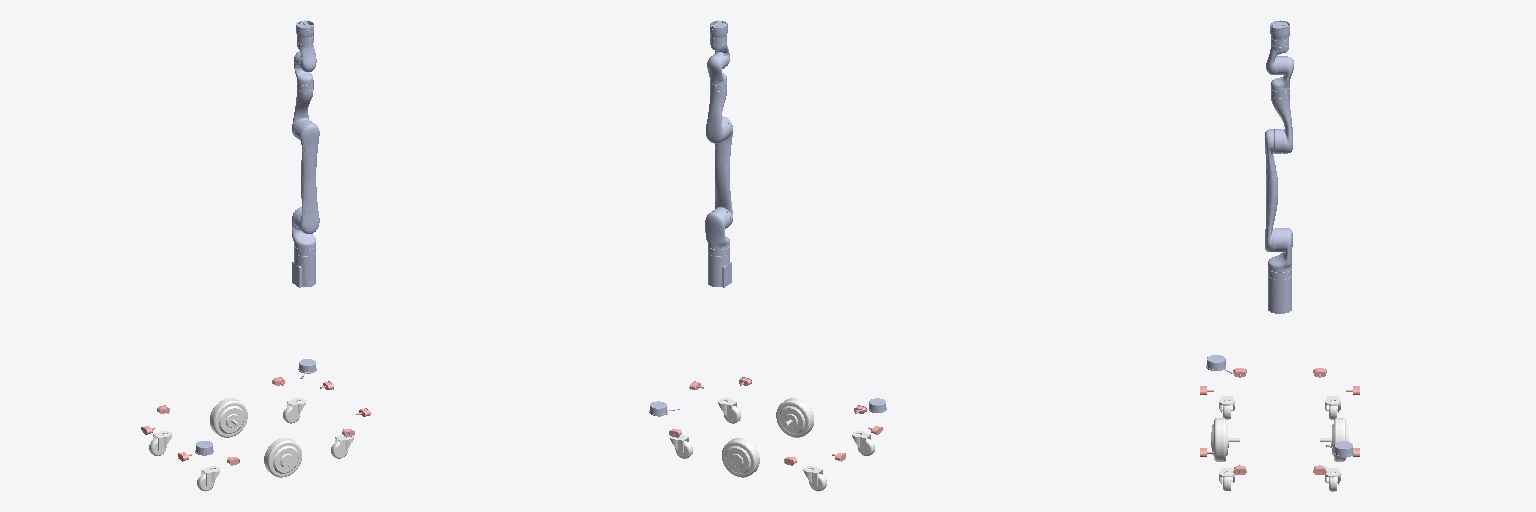
--- Facts derived from the render (not from the file) ---
The picture shows the robot from 3 angles, left to right: view 1: azimuth 30°, elevation 25°; view 2: azimuth 150°, elevation 25°; view 3: azimuth 270°, elevation 25°; orthographic projection.
Robot: ustbot — 29 links, 28 joints (16 revolute, 12 fixed); root link base_footprint; default pose: all joints at 0.
Visible links, largest first — view 1: bicep_link, left_wheelhub_link, right_wheelhub_link, arm_base_link, forearm_link, shoulder_link; view 2: bicep_link, right_wheelhub_link, left_wheelhub_link, forearm_link, arm_base_link, shoulder_link; view 3: bicep_link, arm_base_link, shoulder_link, forearm_link, right_wheelhub_link, spherical_wrist_1_link.
Link boxes in pixels (x1,y1,x2,y2): bicep_link: (295,119,319,233); left_wheelhub_link: (210,398,247,437); right_wheelhub_link: (264,438,301,477); arm_base_link: (292,246,315,287); forearm_link: (292,82,313,136); shoulder_link: (292,207,315,249); bicep_link: (715,116,732,224); right_wheelhub_link: (776,398,813,437); left_wheelhub_link: (722,438,759,477); forearm_link: (706,83,726,143); arm_base_link: (708,246,731,287); shoulder_link: (705,208,730,249); bicep_link: (1265,129,1281,251); arm_base_link: (1268,269,1291,313); shoulder_link: (1268,228,1292,272); forearm_link: (1271,88,1292,153); right_wheelhub_link: (1211,418,1239,461); spherical_wrist_1_link: (1271,56,1293,91).
Size in the robot's own frame: 0.894 by 0.604 by 1.92 metres.
27 mesh visuals loaded from 28 distinct referenced files (27 binary STL); not drawn: 1 (reference not matched to a file when rendering).

The robot description file, URDF, robot "ustbot":
<?xml version="1.0" encoding="utf-8"?>
<!-- This URDF was automatically created by SolidWorks to URDF Exporter! Originally created by Stephen Brawner ([email redacted]) 
     Commit Version: 1.6.0-1-g15f4949  Build Version: 1.6.7594.29634
     For more information, please see http://wiki.ros.org/sw_urdf_exporter -->
<robot 
  name="ustbot">
  <link 
    name="base_footprint"/>
    <joint 
      name="base_joint" type="fixed">
    <parent 
      link="base_footprint"/>
    <child 
      link="base_link"/>
    <origin 
      xyz="0.0 0.0 0.010" 
      rpy="0 0 0"/>
  </joint>

  <link 
    name="base_link">
    <inertial>
      <origin
        xyz="0.013217 0.0075253 0.31131"
        rpy="0 0 0" />
      <mass
        value="76.998" />
      <inertia
        ixx="1.9819"
        ixy="0.0010984"
        ixz="0.0010634"
        iyy="1.9365"
        iyz="-0.00042068"
        izz="2.3951" />
    </inertial>
    <visual>
      <origin
        xyz="0 0 0"
        rpy="0 0 0" />
      <geometry>
        <mesh
          filename="package://ustbot_description/meshes/base_link.STL" />
      </geometry>
      <material
        name="">
        <color
          rgba="0.89804 0.91765 0.92941 1" />
      </material>
    </visual>
    <collision>
      <origin
        xyz="0 0 0"
        rpy="0 0 0" />
      <geometry>
        <mesh
          filename="package://ustbot_description/meshes/base_link.STL" />
      </geometry>
    </collision>
  </link>
  <link
    name="left_wheelhub_link">
    <inertial>
      <origin
        xyz="2.1270092198097E-18 3.74115927137672E-06 0.0346504264024086"
        rpy="0 0 0" />
      <mass
        value="3.07120221177258" />
      <inertia
        ixx="0.0054831110453997"
        ixy="2.15571771255504E-22"
        ixz="4.84300075074391E-19"
        iyy="0.00548317428259655"
        iyz="6.31372521057598E-07"
        izz="0.00925980692151947" />
    </inertial>
    <visual>
      <origin
        xyz="0 0 0"
        rpy="0 0 0" />
      <geometry>
        <mesh
          filename="package://ustbot_description/meshes/left_wheelhub_link.STL" />
      </geometry>
      <material
        name="">
        <color
          rgba="1 1 1 1" />
      </material>
    </visual>
    <collision>
      <origin
        xyz="0 0 0"
        rpy="0 0 0" />
      <geometry>
        <mesh
          filename="package://ustbot_description/meshes/left_wheelhub_link.STL" />
      </geometry>
    </collision>
  </link>
  <joint
    name="left_wheelhub_joint"
    type="revolute">
    <origin
      xyz="0 0.19 0"
      rpy="-1.5708 0 0" />
    <parent
      link="base_link" />
    <child
      link="left_wheelhub_link" />
    <axis
      xyz="0 0 -1" />
    <limit
      lower="-10000"
      upper="10000"
      effort="1000"
      velocity="1000" />
  </joint>
  <link
    name="right_wheelhub_link">
    <inertial>
      <origin
        xyz="-2.53974273110137E-18 3.74115927137672E-06 -0.0346504264024086"
        rpy="0 0 0" />
      <mass
        value="3.07120221177258" />
      <inertia
        ixx="0.00548311104539971"
        ixy="-9.43356445754072E-23"
        ixz="4.82283734613608E-19"
        iyy="0.00548317428259655"
        iyz="-6.313725210576E-07"
        izz="0.00925980692151947" />
    </inertial>
    <visual>
      <origin
        xyz="0 0 0"
        rpy="0 0 0" />
      <geometry>
        <mesh
          filename="package://ustbot_description/meshes/right_wheelhub_link.STL" />
      </geometry>
      <material
        name="">
        <color
          rgba="1 1 1 1" />
      </material>
    </visual>
    <collision>
      <origin
        xyz="0 0 0"
        rpy="0 0 0" />
      <geometry>
        <mesh
          filename="package://ustbot_description/meshes/right_wheelhub_link.STL" />
      </geometry>
    </collision>
  </link>
  <joint
    name="right_wheelhub_joint"
    type="revolute">
    <origin
      xyz="0 -0.19 0"
      rpy="-1.5708 0 0" />
    <parent
      link="base_link" />
    <child
      link="right_wheelhub_link" />
    <axis
      xyz="0 0 1" />
    <limit
      lower="-10000"
      upper="10000"
      effort="1000"
      velocity="1000" />
  </joint>
  <link
    name="left_front_universal_link">
    <inertial>
      <origin
        xyz="-0.0173351211725158 -3.96780477057712E-07 0.0193726789338571"
        rpy="0 0 0" />
      <mass
        value="0.0618964189844521" />
      <inertia
        ixx="4.87325879655447E-05"
        ixy="2.15541954218948E-09"
        ixz="1.15020769399947E-05"
        iyy="4.64322169880782E-05"
        iyz="1.31605530728494E-10"
        izz="4.86391107359433E-05" />
    </inertial>
    <visual>
      <origin
        xyz="0 0 0"
        rpy="0 0 0" />
      <geometry>
        <mesh
          filename="package://ustbot_description/meshes/left_front_universal_link.STL" />
      </geometry>
      <material
        name="">
        <color
          rgba="1 1 1 1" />
      </material>
    </visual>
    <collision>
      <origin
        xyz="0 0 0"
        rpy="0 0 0" />
      <geometry>
        <mesh
          filename="package://ustbot_description/meshes/left_front_universal_link.STL" />
      </geometry>
    </collision>
  </link>
  <joint
    name="left_front_universal_joint"
    type="revolute">
    <origin
      xyz="0.32 0.199 0.012"
      rpy="3.1416 0 0" />
    <parent
      link="base_link" />
    <child
      link="left_front_universal_link" />
    <axis
      xyz="0 0 1" />
    <limit
      lower="-10000"
      upper="10000"
      effort="1000"
      velocity="1000" />
  </joint>
  <link
    name="left_front_universalWheel_link">
    <inertial>
      <origin
        xyz="0 5.29437604868122E-15 8.04911692853238E-16"
        rpy="0 0 0" />
      <mass
        value="0.351682213816847" />
      <inertia
        ixx="0.0001453585758008"
        ixy="1.86526139128109E-21"
        ixz="-7.22919172369649E-20"
        iyy="0.0001453585758008"
        iyz="2.11349994585755E-21"
        izz="0.000236148057586011" />
    </inertial>
    <visual>
      <origin
        xyz="0 0 0"
        rpy="0 0 0" />
      <geometry>
        <mesh
          filename="package://ustbot_description/meshes/left_front_universalWheel_link.STL" />
      </geometry>
      <material
        name="">
        <color
          rgba="1 1 1 1" />
      </material>
    </visual>
    <collision>
      <origin
        xyz="0 0 0"
        rpy="0 0 0" />
      <geometry>
        <mesh
          filename="package://ustbot_description/meshes/left_front_universalWheel_link.STL" />
      </geometry>
    </collision>
  </link>
  <joint
    name="left_front_universalWheel_joint"
    type="revolute">
    <origin
      xyz="-0.035 0 0.052"
      rpy="1.5708 0 0" />
    <parent
      link="left_front_universal_link" />
    <child
      link="left_front_universalWheel_link" />
    <axis
      xyz="0 0 -1" />
    <limit
      lower="-10000"
      upper="10000"
      effort="1000"
      velocity="1000" />
  </joint>
  <link
    name="left_back_universal_link">
    <inertial>
      <origin
        xyz="-0.0173351211725153 -3.96780477029957E-07 0.0193726789338557"
        rpy="0 0 0" />
      <mass
        value="0.0618964189844518" />
      <inertia
        ixx="4.87325879655444E-05"
        ixy="2.1554195449679E-09"
        ixz="1.15020769399942E-05"
        iyy="4.64322169880781E-05"
        iyz="1.31605531078787E-10"
        izz="4.86391107359431E-05" />
    </inertial>
    <visual>
      <origin
        xyz="0 0 0"
        rpy="0 0 0" />
      <geometry>
        <mesh
          filename="package://ustbot_description/meshes/left_back_universal_link.STL" />
      </geometry>
      <material
        name="">
        <color
          rgba="1 1 1 1" />
      </material>
    </visual>
    <collision>
      <origin
        xyz="0 0 0"
        rpy="0 0 0" />
      <geometry>
        <mesh
          filename="package://ustbot_description/meshes/left_back_universal_link.STL" />
      </geometry>
    </collision>
  </link>
  <joint
    name="left_back_universal_joint"
    type="revolute">
    <origin
      xyz="-0.319 0.199 0.012"
      rpy="3.1416 0 0" />
    <parent
      link="base_link" />
    <child
      link="left_back_universal_link" />
    <axis
      xyz="0 0 1" />
    <limit
      lower="-10000"
      upper="10000"
      effort="1000"
      velocity="1000" />
  </joint>
  <link
    name="left_back_universalWheel_link">
    <inertial>
      <origin
        xyz="5.55111512312578E-17 0 -2.77555756156289E-17"
        rpy="0 0 0" />
      <mass
        value="0.351682213816847" />
      <inertia
        ixx="0.0001453585758008"
        ixy="3.74081963022458E-22"
        ixz="7.82430587857836E-20"
        iyy="0.0001453585758008"
        iyz="-4.74764533675695E-21"
        izz="0.000236148057586012" />
    </inertial>
    <visual>
      <origin
        xyz="0 0 0"
        rpy="0 0 0" />
      <geometry>
        <mesh
          filename="package://ustbot_description/meshes/left_back_universalWheel_link.STL" />
      </geometry>
      <material
        name="">
        <color
          rgba="1 1 1 1" />
      </material>
    </visual>
    <collision>
      <origin
        xyz="0 0 0"
        rpy="0 0 0" />
      <geometry>
        <mesh
          filename="package://ustbot_description/meshes/left_back_universalWheel_link.STL" />
      </geometry>
    </collision>
  </link>
  <joint
    name="left_back_universalWheel_joint"
    type="revolute">
    <origin
      xyz="-0.035 0 0.052"
      rpy="1.5708 0 0" />
    <parent
      link="left_back_universal_link" />
    <child
      link="left_back_universalWheel_link" />
    <axis
      xyz="0 0 -1" />
    <limit
      lower="-10000"
      upper="10000"
      effort="1000"
      velocity="1000" />
  </joint>
  <link
    name="right_back_universal_link">
    <inertial>
      <origin
        xyz="-0.0173351211725146 -3.96780481498604E-07 0.019372678933856"
        rpy="0 0 0" />
      <mass
        value="0.0618964189844526" />
      <inertia
        ixx="4.87325877257369E-05"
        ixy="2.15541953812622E-09"
        ixz="1.15020769399932E-05"
        iyy="4.64322169880775E-05"
        iyz="1.31605538084203E-10"
        izz="4.86391104961347E-05" />
    </inertial>
    <visual>
      <origin
        xyz="0 0 0"
        rpy="0 0 0" />
      <geometry>
        <mesh
          filename="package://ustbot_description/meshes/right_back_universal_link.STL" />
      </geometry>
      <material
        name="">
        <color
          rgba="1 1 1 1" />
      </material>
    </visual>
    <collision>
      <origin
        xyz="0 0 0"
        rpy="0 0 0" />
      <geometry>
        <mesh
          filename="package://ustbot_description/meshes/right_back_universal_link.STL" />
      </geometry>
    </collision>
  </link>
  <joint
    name="right_back_universal_joint"
    type="revolute">
    <origin
      xyz="-0.32 -0.199 0.012"
      rpy="3.1416 0 0" />
    <parent
      link="base_link" />
    <child
      link="right_back_universal_link" />
    <axis
      xyz="0 0 1" />
    <limit
      lower="-10000"
      upper="10000"
      effort="1000"
      velocity="1000" />
  </joint>
  <link
    name="right_back_universalWheel_link">
    <inertial>
      <origin
        xyz="-5.55111512312578E-17 0 0"
        rpy="0 0 0" />
      <mass
        value="0.351682213816847" />
      <inertia
        ixx="0.0001453585758008"
        ixy="-5.70341368397437E-21"
        ixz="-1.10621090230808E-20"
        iyy="0.0001453585758008"
        iyz="-9.67854330981795E-21"
        izz="0.000236148057586011" />
    </inertial>
    <visual>
      <origin
        xyz="0 0 0"
        rpy="0 0 0" />
      <geometry>
        <mesh
          filename="package://ustbot_description/meshes/right_back_universalWheel_link.STL" />
      </geometry>
      <material
        name="">
        <color
          rgba="1 1 1 1" />
      </material>
    </visual>
    <collision>
      <origin
        xyz="0 0 0"
        rpy="0 0 0" />
      <geometry>
        <mesh
          filename="package://ustbot_description/meshes/right_back_universalWheel_link.STL" />
      </geometry>
    </collision>
  </link>
  <joint
    name="right_back_universalWheel_joint"
    type="revolute">
    <origin
      xyz="-0.035 0 0.052"
      rpy="1.5708 0 0" />
    <parent
      link="right_back_universal_link" />
    <child
      link="right_back_universalWheel_link" />
    <axis
      xyz="0 0 -1" />
    <limit
      lower="-10000"
      upper="10000"
      effort="1000"
      velocity="1000" />
  </joint>
  <link
    name="right_front_universal_link">
    <inertial>
      <origin
        xyz="-0.0173351211725143 -3.96780477113223E-07 0.0193726789338561"
        rpy="0 0 0" />
      <mass
        value="0.061896418984453" />
      <inertia
        ixx="4.87325879655451E-05"
        ixy="2.15541954179344E-09"
        ixz="1.15020769399928E-05"
        iyy="4.64322169880781E-05"
        iyz="1.31605528779549E-10"
        izz="4.86391107359434E-05" />
    </inertial>
    <visual>
      <origin
        xyz="0 0 0"
        rpy="0 0 0" />
      <geometry>
        <mesh
          filename="package://ustbot_description/meshes/right_front_universal_link.STL" />
      </geometry>
      <material
        name="">
        <color
          rgba="1 1 1 1" />
      </material>
    </visual>
    <collision>
      <origin
        xyz="0 0 0"
        rpy="0 0 0" />
      <geometry>
        <mesh
          filename="package://ustbot_description/meshes/right_front_universal_link.STL" />
      </geometry>
    </collision>
  </link>
  <joint
    name="right_front_universal_joint"
    type="revolute">
    <origin
      xyz="0.319 -0.199 0.012"
      rpy="3.1416 0 0" />
    <parent
      link="base_link" />
    <child
      link="right_front_universal_link" />
    <axis
      xyz="0 0 1" />
    <limit
      lower="-10000"
      upper="10000"
      effort="1000"
      velocity="1000" />
  </joint>
  <link
    name="right_front_universalWheel_link">
    <inertial>
      <origin
        xyz="0 0 -5.55111512312578E-17"
        rpy="0 0 0" />
      <mass
        value="0.351682213816847" />
      <inertia
        ixx="0.0001453585758008"
        ixy="-3.98178412812728E-22"
        ixz="7.19672972462314E-20"
        iyy="0.0001453585758008"
        iyz="8.30933049345703E-21"
        izz="0.000236148057586011" />
    </inertial>
    <visual>
      <origin
        xyz="0 0 0"
        rpy="0 0 0" />
      <geometry>
        <mesh
          filename="package://ustbot_description/meshes/right_front_universalWheel_link.STL" />
      </geometry>
      <material
        name="">
        <color
          rgba="1 1 1 1" />
      </material>
    </visual>
    <collision>
      <origin
        xyz="0 0 0"
        rpy="0 0 0" />
      <geometry>
        <mesh
          filename="package://ustbot_description/meshes/right_front_universalWheel_link.STL" />
      </geometry>
    </collision>
  </link>
  <joint
    name="right_front_universalWheel_joint"
    type="revolute">
    <origin
      xyz="-0.035 0 0.052"
      rpy="1.5708 0 0" />
    <parent
      link="right_front_universal_link" />
    <child
      link="right_front_universalWheel_link" />
    <axis
      xyz="0 0 -1" />
    <limit
      lower="-10000"
      upper="10000"
      effort="1000"
      velocity="1000" />
  </joint>
  <link
    name="left_front_lidar_link">
    <inertial>
      <origin
        xyz="-0.001209445380699 2.81552310193445E-05 -0.00557605689200613"
        rpy="0 0 0" />
      <mass
        value="0.0424946334708201" />
      <inertia
        ixx="2.08146223668701E-05"
        ixy="-5.54555355751048E-08"
        ixz="3.09201322735379E-08"
        iyy="2.05336461001076E-05"
        iyz="6.83471548988187E-09"
        izz="3.50841153067244E-05" />
    </inertial>
    <visual>
      <origin
        xyz="0 0 0"
        rpy="0 0 0" />
      <geometry>
        <mesh
          filename="package://ustbot_description/meshes/left_front_lidar_link.STL" />
      </geometry>
      <material
        name="">
        <color
          rgba="0.792156862745098 0.819607843137255 0.933333333333333 1" />
      </material>
    </visual>
    <collision>
      <origin
        xyz="0 0 0"
        rpy="0 0 0" />
      <geometry>
        <mesh
          filename="package://ustbot_description/meshes/left_front_lidar_link.STL" />
      </geometry>
    </collision>
  </link>
  <joint
    name="left_front_lidar_joint"
    type="fixed">
    <origin
      xyz="0.385 0.24 0.14238"
      rpy="0 0 0.7854" />
    <parent
      link="base_link" />
    <child
      link="left_front_lidar_link" />
    <axis
      xyz="0 0 0" />
  </joint>
  <link
    name="left_back_lidar_link">
    <inertial>
      <origin
        xyz="-0.00120944538069895 2.81552310179845E-05 -0.00557605689200569"
        rpy="0 0 0" />
      <mass
        value="0.04249463347082" />
      <inertia
        ixx="2.08146223668701E-05"
        ixy="-5.54555355751912E-08"
        ixz="3.09201322735433E-08"
        iyy="2.05336461001075E-05"
        iyz="6.83471548986516E-09"
        izz="3.50841153067244E-05" />
    </inertial>
    <visual>
      <origin
        xyz="0 0 0"
        rpy="0 0 0" />
      <geometry>
        <mesh
          filename="package://ustbot_description/meshes/left_back_lidar_link.STL" />
      </geometry>
      <material
        name="">
        <color
          rgba="0.792156862745098 0.819607843137255 0.933333333333333 1" />
      </material>
    </visual>
    <collision>
      <origin
        xyz="0 0 0"
        rpy="0 0 0" />
      <geometry>
        <mesh
          filename="package://ustbot_description/meshes/left_back_lidar_link.STL" />
      </geometry>
    </collision>
  </link>
  <joint
    name="left_back_lidar_joint"
    type="fixed">
    <origin
      xyz="-0.38505 -0.24001 0.14238"
      rpy="0 0 -2.3562" />
    <parent
      link="base_link" />
    <child
      link="left_back_lidar_link" />
    <axis
      xyz="0 0 0" />
  </joint>
  <link
    name="arm_base_link">
    <inertial>
      <origin
        xyz="-0.000711712698347439 0.000106262049453287 0.0781492762008092"
        rpy="0 0 0" />
      <mass
        value="1.06209181455169" />
      <inertia
        ixx="0.00275577215631917"
        ixy="-1.14162264322392E-07"
        ixz="-2.81022161469274E-05"
        iyy="0.00277993758214866"
        iyz="-1.83036413267701E-06"
        izz="0.00115303923244668" />
    </inertial>
    <visual>
      <origin
        xyz="0 0 0"
        rpy="0 0 0" />
      <geometry>
        <mesh
          filename="package://ustbot_description/meshes/arm_base_link.STL" />
      </geometry>
      <material
        name="">
        <color
          rgba="0.792156862745098 0.819607843137255 0.933333333333333 1" />
      </material>
    </visual>
    <collision>
      <origin
        xyz="0 0 0"
        rpy="0 0 0" />
      <geometry>
        <mesh
          filename="package://ustbot_description/meshes/arm_base_link.STL" />
      </geometry>
    </collision>
  </link>
  <joint
    name="arm_base_joint"
    type="fixed">
    <origin
      xyz="0.235 0 0.6535"
      rpy="0 0 0" />
    <parent
      link="base_link" />
    <child
      link="arm_base_link" />
    <axis
      xyz="0 0 0" />
    <limit
      lower="-10000"
      upper="10000"
      effort="1000"
      velocity="1000" />
  </joint>
  <link
    name="shoulder_link">
    <inertial>
      <origin
        xyz="-0.0840018720035909 -0.208802974838312 -0.872375327554249"
        rpy="0 0 0" />
      <mass
        value="0.508433094676871" />
      <inertia
        ixx="0.000700265716566138"
        ixy="1.885546538717E-08"
        ixz="2.09523894060598E-08"
        iyy="0.00082734360816898"
        iyz="-7.35265759047621E-05"
        izz="0.000489245693764828" />
    </inertial>
    <visual>
      <origin
        xyz="0 0 0"
        rpy="0 0 0" />
      <geometry>
        <mesh
          filename="package://ustbot_description/meshes/shoulder_link.STL" />
      </geometry>
      <material
        name="">
        <color
          rgba="0.792156862745098 0.819607843137255 0.933333333333333 1" />
      </material>
    </visual>
    <collision>
      <origin
        xyz="0 0 0"
        rpy="0 0 0" />
      <geometry>
        <mesh
          filename="package://ustbot_description/meshes/shoulder_link.STL" />
      </geometry>
    </collision>
  </link>
  <joint
    name="shoulder_joint"
    type="revolute">
    <origin
      xyz="0.084 -0.199 -0.6415"
      rpy="-3.1416 0 0" />
    <parent
      link="arm_base_link" />
    <child
      link="shoulder_link" />
    <axis
      xyz="0 0 -1" />
    <limit
      lower="-10000"
      upper="10000"
      effort="1000"
      velocity="1000" />
  </joint>
  <link
    name="bicep_link">
    <inertial>
      <origin
        xyz="-1.44667187100544E-05 -0.209035829145565 -0.00477389800841804"
        rpy="0 0 0" />
      <mass
        value="0.492119196746743" />
      <inertia
        ixx="0.00279565951071861"
        ixy="-1.41208694363429E-07"
        ixz="7.44180893992196E-08"
        iyy="0.000309455115357151"
        iyz="8.09747787651918E-08"
        izz="0.00299614904881225" />
    </inertial>
    <visual>
      <origin
        xyz="0 0 0"
        rpy="0 0 0" />
      <geometry>
        <mesh
          filename="package://ustbot_description/meshes/bicep_link.STL" />
      </geometry>
      <material
        name="">
        <color
          rgba="0.792156862745098 0.819607843137255 0.933333333333333 1" />
      </material>
    </visual>
    <collision>
      <origin
        xyz="0 0 0"
        rpy="0 0 0" />
      <geometry>
        <mesh
          filename="package://ustbot_description/meshes/bicep_link.STL" />
      </geometry>
    </collision>
  </link>
  <joint
    name="bicep_joint"
    type="revolute">
    <origin
      xyz="-0.084 -0.1792 -0.9263"
      rpy="1.5708 0 0" />
    <parent
      link="shoulder_link" />
    <child
      link="bicep_link" />
    <axis
      xyz="0 0 -1" />
    <limit
      lower="-10000"
      upper="10000"
      effort="1000"
      velocity="1000" />
  </joint>
  <link
    name="forearm_link">
    <inertial>
      <origin
        xyz="-4.16309103992707E-06 0.0799449656387601 -0.00673657663584737"
        rpy="0 0 0" />
      <mass
        value="0.109261809919368" />
      <inertia
        ixx="0.00039446074043438"
        ixy="-9.56510853411388E-08"
        ixz="-8.46662670511317E-09"
        iyy="0.000112362718424169"
        iyz="-5.78354109274912E-05"
        izz="0.000423666778381865" />
    </inertial>
    <visual>
      <origin
        xyz="0 0 0"
        rpy="0 0 0" />
      <geometry>
        <mesh
          filename="package://ustbot_description/meshes/forearm_link.STL" />
      </geometry>
      <material
        name="">
        <color
          rgba="0.792156862745098 0.819607843137255 0.933333333333333 1" />
      </material>
    </visual>
    <collision>
      <origin
        xyz="0 0 0"
        rpy="0 0 0" />
      <geometry>
        <mesh
          filename="package://ustbot_description/meshes/forearm_link.STL" />
      </geometry>
    </collision>
  </link>
  <joint
    name="forearm_joint"
    type="revolute">
    <origin
      xyz="0 -0.41 0.02885"
      rpy="3.1416 0 0" />
    <parent
      link="bicep_link" />
    <child
      link="forearm_link" />
    <axis
      xyz="0 0 1" />
    <limit
      lower="-10000"
      upper="10000"
      effort="1000"
      velocity="1000" />
  </joint>
  <link
    name="spherical_wrist_1_link">
    <inertial>
      <origin
        xyz="-1.33966470524938E-05 0.0134681682665654 0.0569185239491965"
        rpy="0 0 0" />
      <mass
        value="0.0607181356041409" />
      <inertia
        ixx="0.000138166287093796"
        ixy="-1.36300678114682E-08"
        ixz="-4.46917368595719E-08"
        iyy="0.000140550901694903"
        iyz="-2.20908893258633E-05"
        izz="5.89037344032269E-05" />
    </inertial>
    <visual>
      <origin
        xyz="0 0 0"
        rpy="0 0 0" />
      <geometry>
        <mesh
          filename="package://ustbot_description/meshes/spherical_wrist_1_link.STL" />
      </geometry>
      <material
        name="">
        <color
          rgba="0.792156862745098 0.819607843137255 0.933333333333333 1" />
      </material>
    </visual>
    <collision>
      <origin
        xyz="0 0 0"
        rpy="0 0 0" />
      <geometry>
        <mesh
          filename="package://ustbot_description/meshes/spherical_wrist_1_link.STL" />
      </geometry>
    </collision>
  </link>
  <joint
    name="spherocal_wrist_1_joint"
    type="revolute">
    <origin
      xyz="0 0.2209 0.00805"
      rpy="-1.5708 0 0" />
    <parent
      link="forearm_link" />
    <child
      link="spherical_wrist_1_link" />
    <axis
      xyz="0 0 1" />
    <limit
      lower="-10000"
      upper="10000"
      effort="1000"
      velocity="1000" />
  </joint>
  <link
    name="spherical_wrist_2_link">
    <inertial>
      <origin
        xyz="-7.14531001405616E-06 -0.0467740828401713 -0.00106495389643069"
        rpy="0 0 0" />
      <mass
        value="0.0606982648446486" />
      <inertia
        ixx="0.000151586780132747"
        ixy="-1.27452373879111E-08"
        ixz="5.33427994049047E-09"
        iyy="6.22322674674967E-05"
        iyz="3.01646882784132E-05"
        izz="0.000150621081679687" />
    </inertial>
    <visual>
      <origin
        xyz="0 0 0"
        rpy="0 0 0" />
      <geometry>
        <mesh
          filename="package://ustbot_description/meshes/spherical_wrist_2_link.STL" />
      </geometry>
      <material
        name="">
        <color
          rgba="0.792156862745098 0.819607843137255 0.933333333333333 1" />
      </material>
    </visual>
    <collision>
      <origin
        xyz="0 0 0"
        rpy="0 0 0" />
      <geometry>
        <mesh
          filename="package://ustbot_description/meshes/spherical_wrist_2_link.STL" />
      </geometry>
    </collision>
  </link>
  <joint
    name="spherical_wrist_2_joint"
    type="revolute">
    <origin
      xyz="0 -0.01265 0.09345"
      rpy="-1.5708 0 0" />
    <parent
      link="spherical_wrist_1_link" />
    <child
      link="spherical_wrist_2_link" />
    <axis
      xyz="0 0 -1" />
    <limit
      lower="-10000"
      upper="10000"
      effort="1000"
      velocity="1000" />
  </joint>
  <link
    name="bracelet_link">
    <inertial>
      <origin
        xyz="-0.000338917389730686 0.000390769846620108 0.0262642401033273"
        rpy="0 0 0" />
      <mass
        value="0.036976882446404" />
      <inertia
        ixx="3.32977469085449E-05"
        ixy="2.65321322432355E-09"
        ixz="-8.48811239732696E-08"
        iyy="2.99246474387349E-05"
        iyz="-2.27871678210639E-07"
        izz="4.16451309264476E-05" />
    </inertial>
    <visual>
      <origin
        xyz="0 0 0"
        rpy="0 0 0" />
      <geometry>
        <mesh
          filename="package://ustbot_description/meshes/bracelet_link.STL" />
      </geometry>
      <material
        name="">
        <color
          rgba="0.792156862745098 0.819607843137255 0.933333333333333 1" />
      </material>
    </visual>
    <collision>
      <origin
        xyz="0 0 0"
        rpy="0 0 0" />
      <geometry>
        <mesh
          filename="package://ustbot_description/meshes/bracelet_link.STL" />
      </geometry>
    </collision>
  </link>
  <joint
    name="bracelet_joint"
    type="revolute">
    <origin
      xyz="0 -0.1184 0.0123"
      rpy="1.5708 0 0" />
    <parent
      link="spherical_wrist_2_link" />
    <child
      link="bracelet_link" />
    <axis
      xyz="0 0 1" />
    <limit
      lower="-10000"
      upper="10000"
      effort="1000"
      velocity="1000" />
  </joint>
  <link
    name="front_right_ultrasonic_link">
    <inertial>
      <origin
        xyz="-0.014787 0 0"
        rpy="0 0 0" />
      <mass
        value="0.072525" />
      <inertia
        ixx="1.371E-05"
        ixy="-2.7519E-21"
        ixz="1.1461E-21"
        iyy="9.2007E-06"
        iyz="-8.1011E-21"
        izz="1.7481E-05" />
    </inertial>
    <visual>
      <origin
        xyz="0 0 0"
        rpy="0 0 0" />
      <geometry>
        <mesh
          filename="package://ustbot_description/meshes/front_right_ultrasonic_link.STL" />
      </geometry>
      <material
        name="">
        <color
          rgba="1 0.75294 0.75294 1" />
      </material>
    </visual>
    <collision>
      <origin
        xyz="0 0 0"
        rpy="0 0 0" />
      <geometry>
        <mesh
          filename="package://ustbot_description/meshes/front_right_ultrasonic_link.STL" />
      </geometry>
    </collision>
  </link>
  <joint
    name="front_right_ultrasonic_joint"
    type="fixed">
    <origin
      xyz="0.447 -0.15 0.0755"
      rpy="0 0 0" />
    <parent
      link="base_link" />
    <child
      link="front_right_ultrasonic_link" />
    <axis
      xyz="0 0 0" />
  </joint>
  <link
    name="front_left_ultrasonic_link">
    <inertial>
      <origin
        xyz="-0.014787 0 -1.3878E-17"
        rpy="0 0 0" />
      <mass
        value="0.072525" />
      <inertia
        ixx="1.371E-05"
        ixy="-3.3432E-21"
        ixz="-3.4514E-22"
        iyy="9.2007E-06"
        iyz="-2.835E-22"
        izz="1.7481E-05" />
    </inertial>
    <visual>
      <origin
        xyz="0 0 0"
        rpy="0 0 0" />
      <geometry>
        <mesh
          filename="package://ustbot_description/meshes/front_left_ultrasonic_link.STL" />
      </geometry>
      <material
        name="">
        <color
          rgba="1 0.75294 0.75294 1" />
      </material>
    </visual>
    <collision>
      <origin
        xyz="0 0 0"
        rpy="0 0 0" />
      <geometry>
        <mesh
          filename="package://ustbot_description/meshes/front_left_ultrasonic_link.STL" />
      </geometry>
    </collision>
  </link>
  <joint
    name="front_left_ultrasonic_joint"
    type="fixed">
    <origin
      xyz="0.447 0.15 0.0755"
      rpy="0 0 0" />
    <parent
      link="base_link" />
    <child
      link="front_left_ultrasonic_link" />
    <axis
      xyz="0 0 0" />
  </joint>
  <link
    name="left_front_ultrasonic_link">
    <inertial>
      <origin
        xyz="-0.014787 0 0"
        rpy="0 0 0" />
      <mass
        value="0.072525" />
      <inertia
        ixx="1.371E-05"
        ixy="-9.2604E-21"
        ixz="9.1493E-22"
        iyy="9.2007E-06"
        iyz="1.461E-20"
        izz="1.7481E-05" />
    </inertial>
    <visual>
      <origin
        xyz="0 0 0"
        rpy="0 0 0" />
      <geometry>
        <mesh
          filename="package://ustbot_description/meshes/left_front_ultrasonic_link.STL" />
      </geometry>
      <material
        name="">
        <color
          rgba="1 0.75294 0.75294 1" />
      </material>
    </visual>
    <collision>
      <origin
        xyz="0 0 0"
        rpy="0 0 0" />
      <geometry>
        <mesh
          filename="package://ustbot_description/meshes/left_front_ultrasonic_link.STL" />
      </geometry>
    </collision>
  </link>
  <joint
    name="left_front_ultrasonic_joint"
    type="fixed">
    <origin
      xyz="0.275 0.302 0.0755"
      rpy="0 0 1.5708" />
    <parent
      link="base_link" />
    <child
      link="left_front_ultrasonic_link" />
    <axis
      xyz="0 0 0" />
  </joint>
  <link
    name="left_back_ultrasonic_link">
    <inertial>
      <origin
        xyz="-0.014787 0 0"
        rpy="0 0 0" />
      <mass
        value="0.072525" />
      <inertia
        ixx="1.371E-05"
        ixy="6.9106E-21"
        ixz="-1.7506E-21"
        iyy="9.2007E-06"
        iyz="-3.7618E-21"
        izz="1.7481E-05" />
    </inertial>
    <visual>
      <origin
        xyz="0 0 0"
        rpy="0 0 0" />
      <geometry>
        <mesh
          filename="package://ustbot_description/meshes/left_back_ultrasonic_link.STL" />
      </geometry>
      <material
        name="">
        <color
          rgba="1 0.75294 0.75294 1" />
      </material>
    </visual>
    <collision>
      <origin
        xyz="0 0 0"
        rpy="0 0 0" />
      <geometry>
        <mesh
          filename="package://ustbot_description/meshes/left_back_ultrasonic_link.STL" />
      </geometry>
    </collision>
  </link>
  <joint
    name="left_back_ultrasonic_joint"
    type="fixed">
    <origin
      xyz="-0.275 0.302 0.0755"
      rpy="0 0 1.5708" />
    <parent
      link="base_link" />
    <child
      link="left_back_ultrasonic_link" />
    <axis
      xyz="0 0 0" />
  </joint>
  <link
    name="back_left_ultrasonic_link">
    <inertial>
      <origin
        xyz="-0.014787 0 0"
        rpy="0 0 0" />
      <mass
        value="0.072525" />
      <inertia
        ixx="1.371E-05"
        ixy="8.2563E-23"
        ixz="1.4916E-21"
        iyy="9.2007E-06"
        iyz="4.2322E-20"
        izz="1.7481E-05" />
    </inertial>
    <visual>
      <origin
        xyz="0 0 0"
        rpy="0 0 0" />
      <geometry>
        <mesh
          filename="package://ustbot_description/meshes/back_left_ultrasonic_link.STL" />
      </geometry>
      <material
        name="">
        <color
          rgba="1 0.75294 0.75294 1" />
      </material>
    </visual>
    <collision>
      <origin
        xyz="0 0 0"
        rpy="0 0 0" />
      <geometry>
        <mesh
          filename="package://ustbot_description/meshes/back_left_ultrasonic_link.STL" />
      </geometry>
    </collision>
  </link>
  <joint
    name="back_left_ultrasonic_joint"
    type="fixed">
    <origin
      xyz="-0.447 0.15 0.0755"
      rpy="0 0 3.1416" />
    <parent
      link="base_link" />
    <child
      link="back_left_ultrasonic_link" />
    <axis
      xyz="0 0 0" />
  </joint>
  <link
    name="back_right_ultrasonic_link">
    <inertial>
      <origin
        xyz="-0.014787 0 0"
        rpy="0 0 0" />
      <mass
        value="0.072525" />
      <inertia
        ixx="1.371E-05"
        ixy="-8.4615E-21"
        ixz="1.4574E-21"
        iyy="9.2007E-06"
        iyz="3.7297E-20"
        izz="1.7481E-05" />
    </inertial>
    <visual>
      <origin
        xyz="0 0 0"
        rpy="0 0 0" />
      <geometry>
        <mesh
          filename="package://ustbot_description/meshes/back_right_ultrasonic_link.STL" />
      </geometry>
      <material
        name="">
        <color
          rgba="1 0.75294 0.75294 1" />
      </material>
    </visual>
    <collision>
      <origin
        xyz="0 0 0"
        rpy="0 0 0" />
      <geometry>
        <mesh
          filename="package://ustbot_description/meshes/back_right_ultrasonic_link.STL" />
      </geometry>
    </collision>
  </link>
  <joint
    name="back_right_ultrasonic_joint"
    type="fixed">
    <origin
      xyz="-0.447 -0.15 0.0755"
      rpy="0 0 3.1416" />
    <parent
      link="base_link" />
    <child
      link="back_right_ultrasonic_link" />
    <axis
      xyz="0 0 0" />
  </joint>
  <link
    name="right_back_ultrasonic_link">
    <inertial>
      <origin
        xyz="-0.014787 0 0"
        rpy="0 0 0" />
      <mass
        value="0.072525" />
      <inertia
        ixx="1.371E-05"
        ixy="-1.4096E-20"
        ixz="-1.4505E-21"
        iyy="9.2007E-06"
        iyz="-5.3776E-21"
        izz="1.7481E-05" />
    </inertial>
    <visual>
      <origin
        xyz="0 0 0"
        rpy="0 0 0" />
      <geometry>
        <mesh
          filename="package://ustbot_description/meshes/right_back_ultrasonic_link.STL" />
      </geometry>
      <material
        name="">
        <color
          rgba="1 0.75294 0.75294 1" />
      </material>
    </visual>
    <collision>
      <origin
        xyz="0 0 0"
        rpy="0 0 0" />
      <geometry>
        <mesh
          filename="package://ustbot_description/meshes/right_back_ultrasonic_link.STL" />
      </geometry>
    </collision>
  </link>
  <joint
    name="right_back_ultrasonic_joint"
    type="fixed">
    <origin
      xyz="-0.275 -0.302 0.0755"
      rpy="0 0 -1.5708" />
    <parent
      link="base_link" />
    <child
      link="right_back_ultrasonic_link" />
    <axis
      xyz="0 0 0" />
  </joint>
  <link
    name="right_front_ultrasonic_link">
    <inertial>
      <origin
        xyz="-0.014787 0 0"
        rpy="0 0 0" />
      <mass
        value="0.072525" />
      <inertia
        ixx="1.371E-05"
        ixy="-9.2604E-21"
        ixz="9.1493E-22"
        iyy="9.2007E-06"
        iyz="1.461E-20"
        izz="1.7481E-05" />
    </inertial>
    <visual>
      <origin
        xyz="0 0 0"
        rpy="0 0 0" />
      <geometry>
        <mesh
          filename="package://ustbot_description/meshes/right_front_ultrasonic_link.STL" />
      </geometry>
      <material
        name="">
        <color
          rgba="1 0.75294 0.75294 1" />
      </material>
    </visual>
    <collision>
      <origin
        xyz="0 0 0"
        rpy="0 0 0" />
      <geometry>
        <mesh
          filename="package://ustbot_description/meshes/right_front_ultrasonic_link.STL" />
      </geometry>
    </collision>
  </link>
  <joint
    name="right_front_ultrasonic_joint"
    type="fixed">
    <origin
      xyz="0.275 -0.302 0.0755"
      rpy="0 0 -1.5708" />
    <parent
      link="base_link" />
    <child
      link="right_front_ultrasonic_link" />
    <axis
      xyz="0 0 0" />
  </joint>
</robot>
